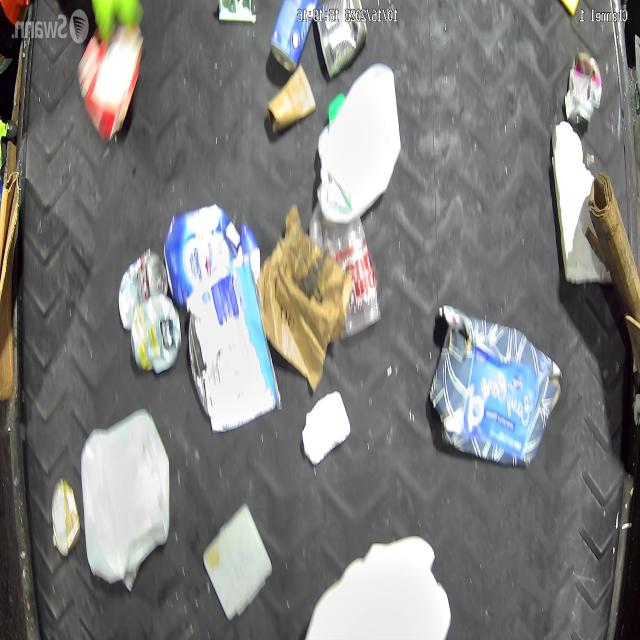can: (315, 0, 370, 78), (130, 293, 182, 375), (117, 252, 166, 329), (563, 49, 604, 130), (270, 0, 315, 71)
milk_jug: (78, 407, 171, 586), (317, 64, 403, 227)
